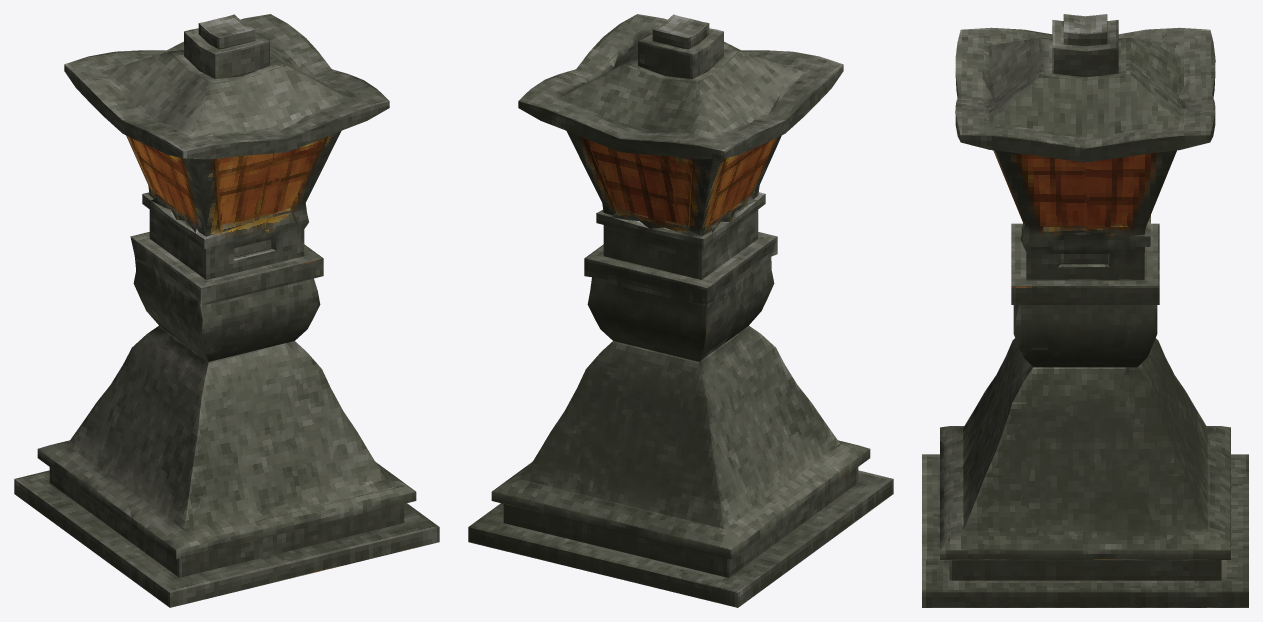
Rendered from street_light.glb.
The picture shows the model from 3 angles, left to right: view 1: azimuth 30°, elevation 25°; view 2: azimuth 150°, elevation 25°; view 3: azimuth 270°, elevation 25°; orthographic projection. The views are drawn at different scales.
Parts seen in each view (by area): view 1: mesh; view 2: mesh; view 3: mesh.
Boxes of the visible parts, x1,y1,x2,y2 form: mesh: (14, 14, 439, 607); mesh: (468, 14, 893, 607); mesh: (922, 14, 1248, 607).
Size of the model in its own units: 2.38 by 4.14 by 2.38.
1 material, 1 textured.
